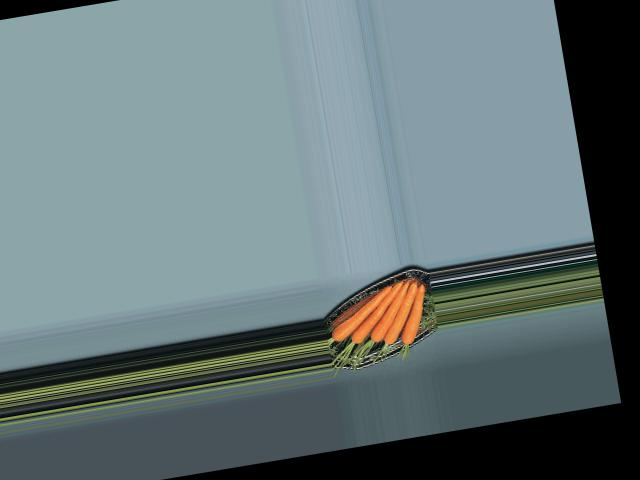carrot: (398, 283, 434, 344)
